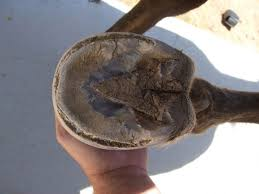horsesole: (50, 31, 180, 151)
